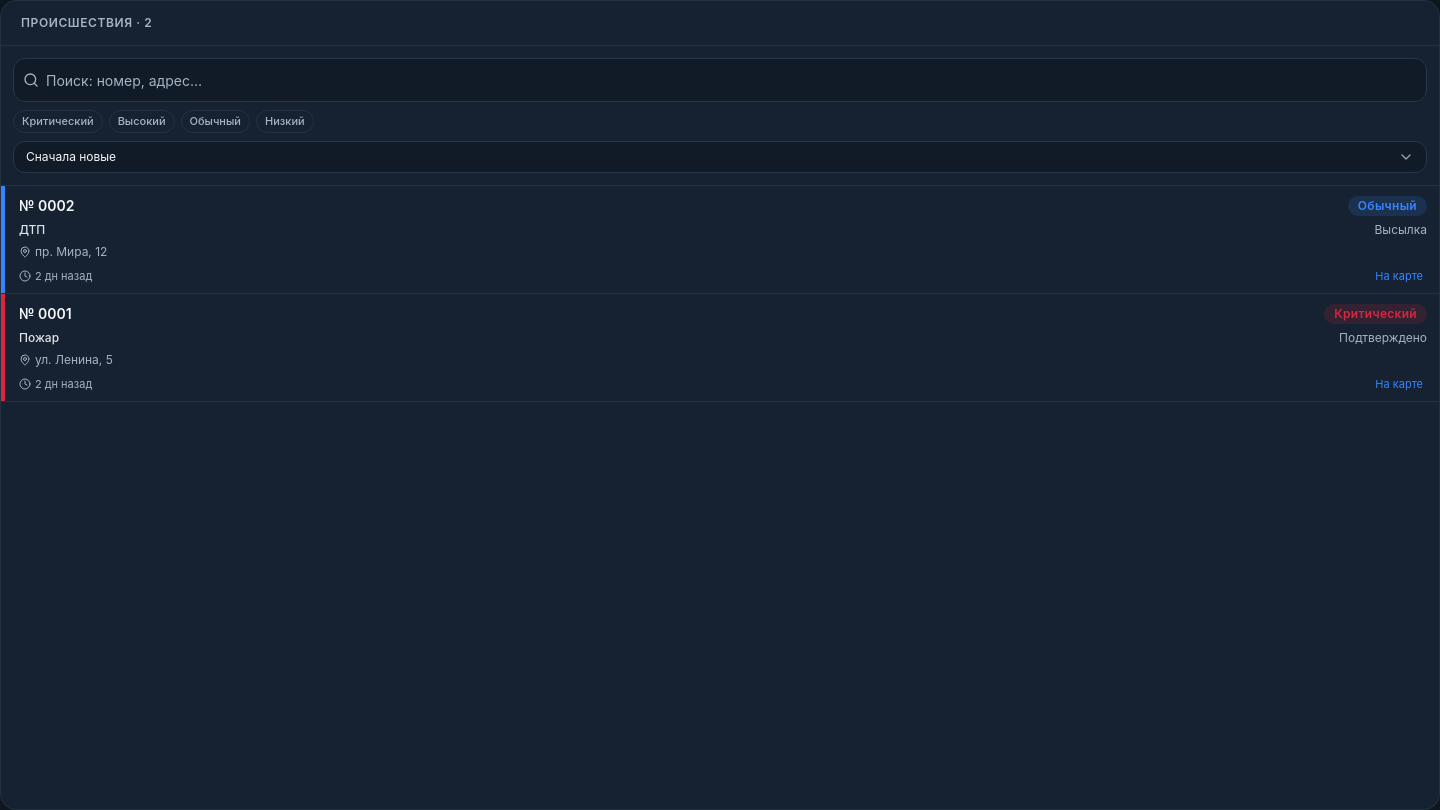
it: IncidentList › filters the list by search text
The width and height of the screenshot is (1440, 810).
Expected: the text "№ 0001" is shown, [19,304,72,324]
Type "ДТП" into the field named "Поиск происшествий" at point(720, 80), box [13,58,1427,102]
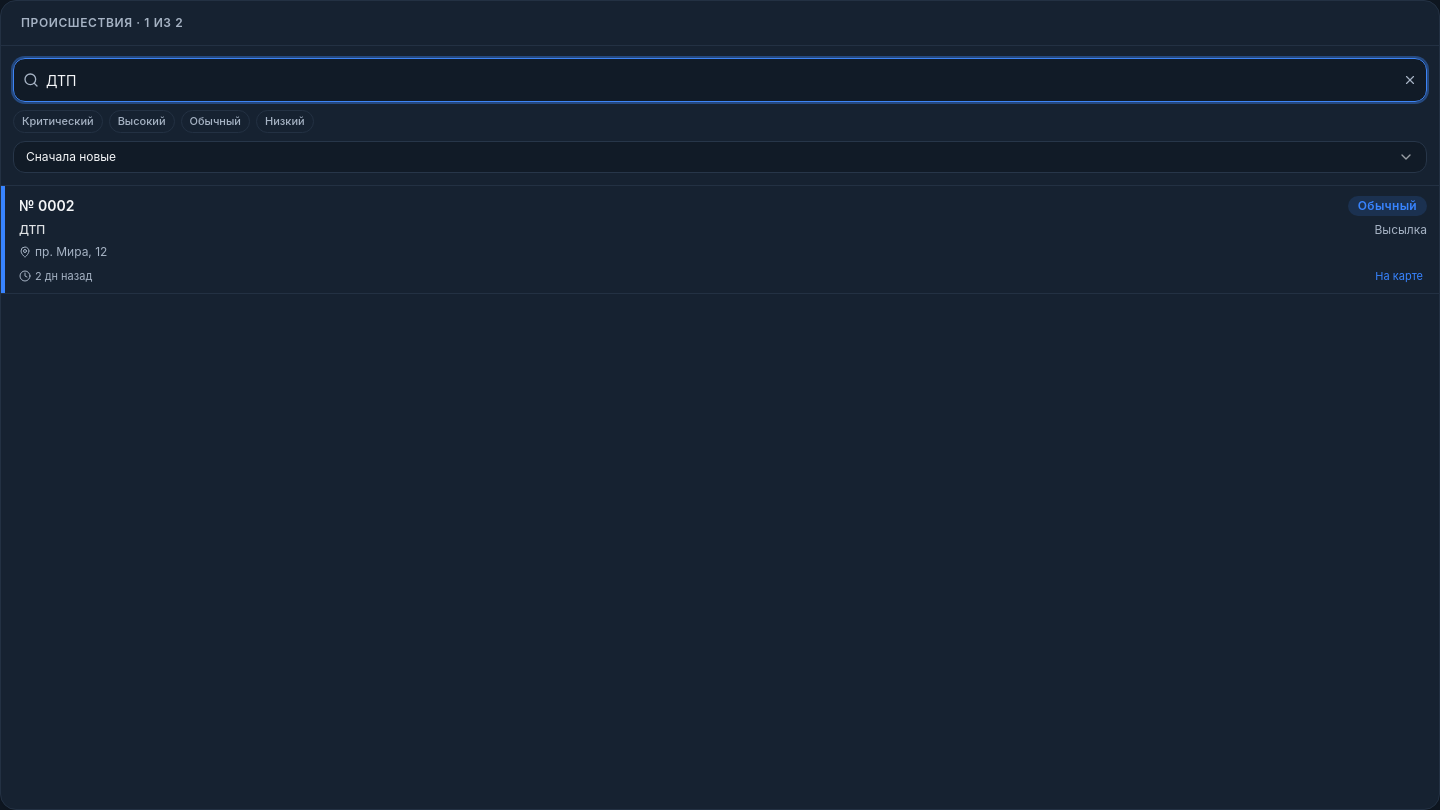
Expected: the text "№ 0002" is shown, [19,196,74,216]
Expected: the option "№ 0001" is gone
